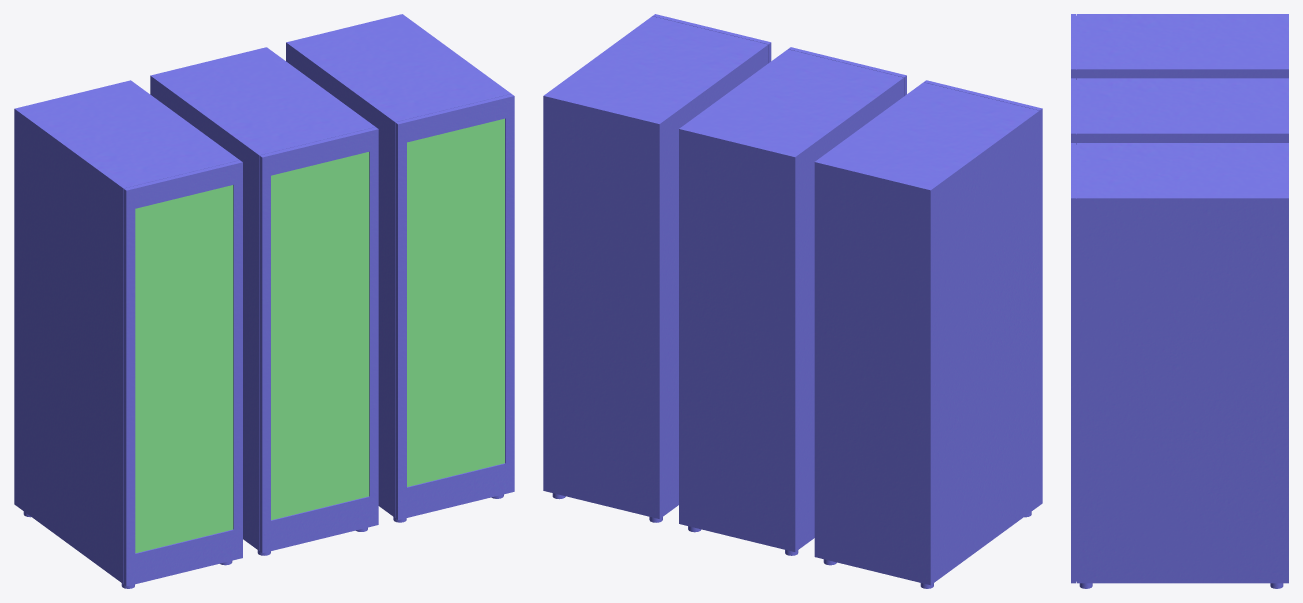
Rendered from Server Sketchfab.fbx.
3 views of the same model, side by side, from view 1: azimuth 30°, elevation 25°; view 2: azimuth 150°, elevation 25°; view 3: azimuth 270°, elevation 25° (orthographic). The views are drawn at different scales.
Parts seen in each view (by area): view 1: Server v005; view 2: Server v005; view 3: Server v005.
Part boxes in pixels (x1,y1,x2,y2): Server v005: [14, 14, 514, 588]; Server v005: [543, 14, 1042, 588]; Server v005: [1071, 14, 1288, 588].
Size of the model in its own units: 200 by 199 by 100.
